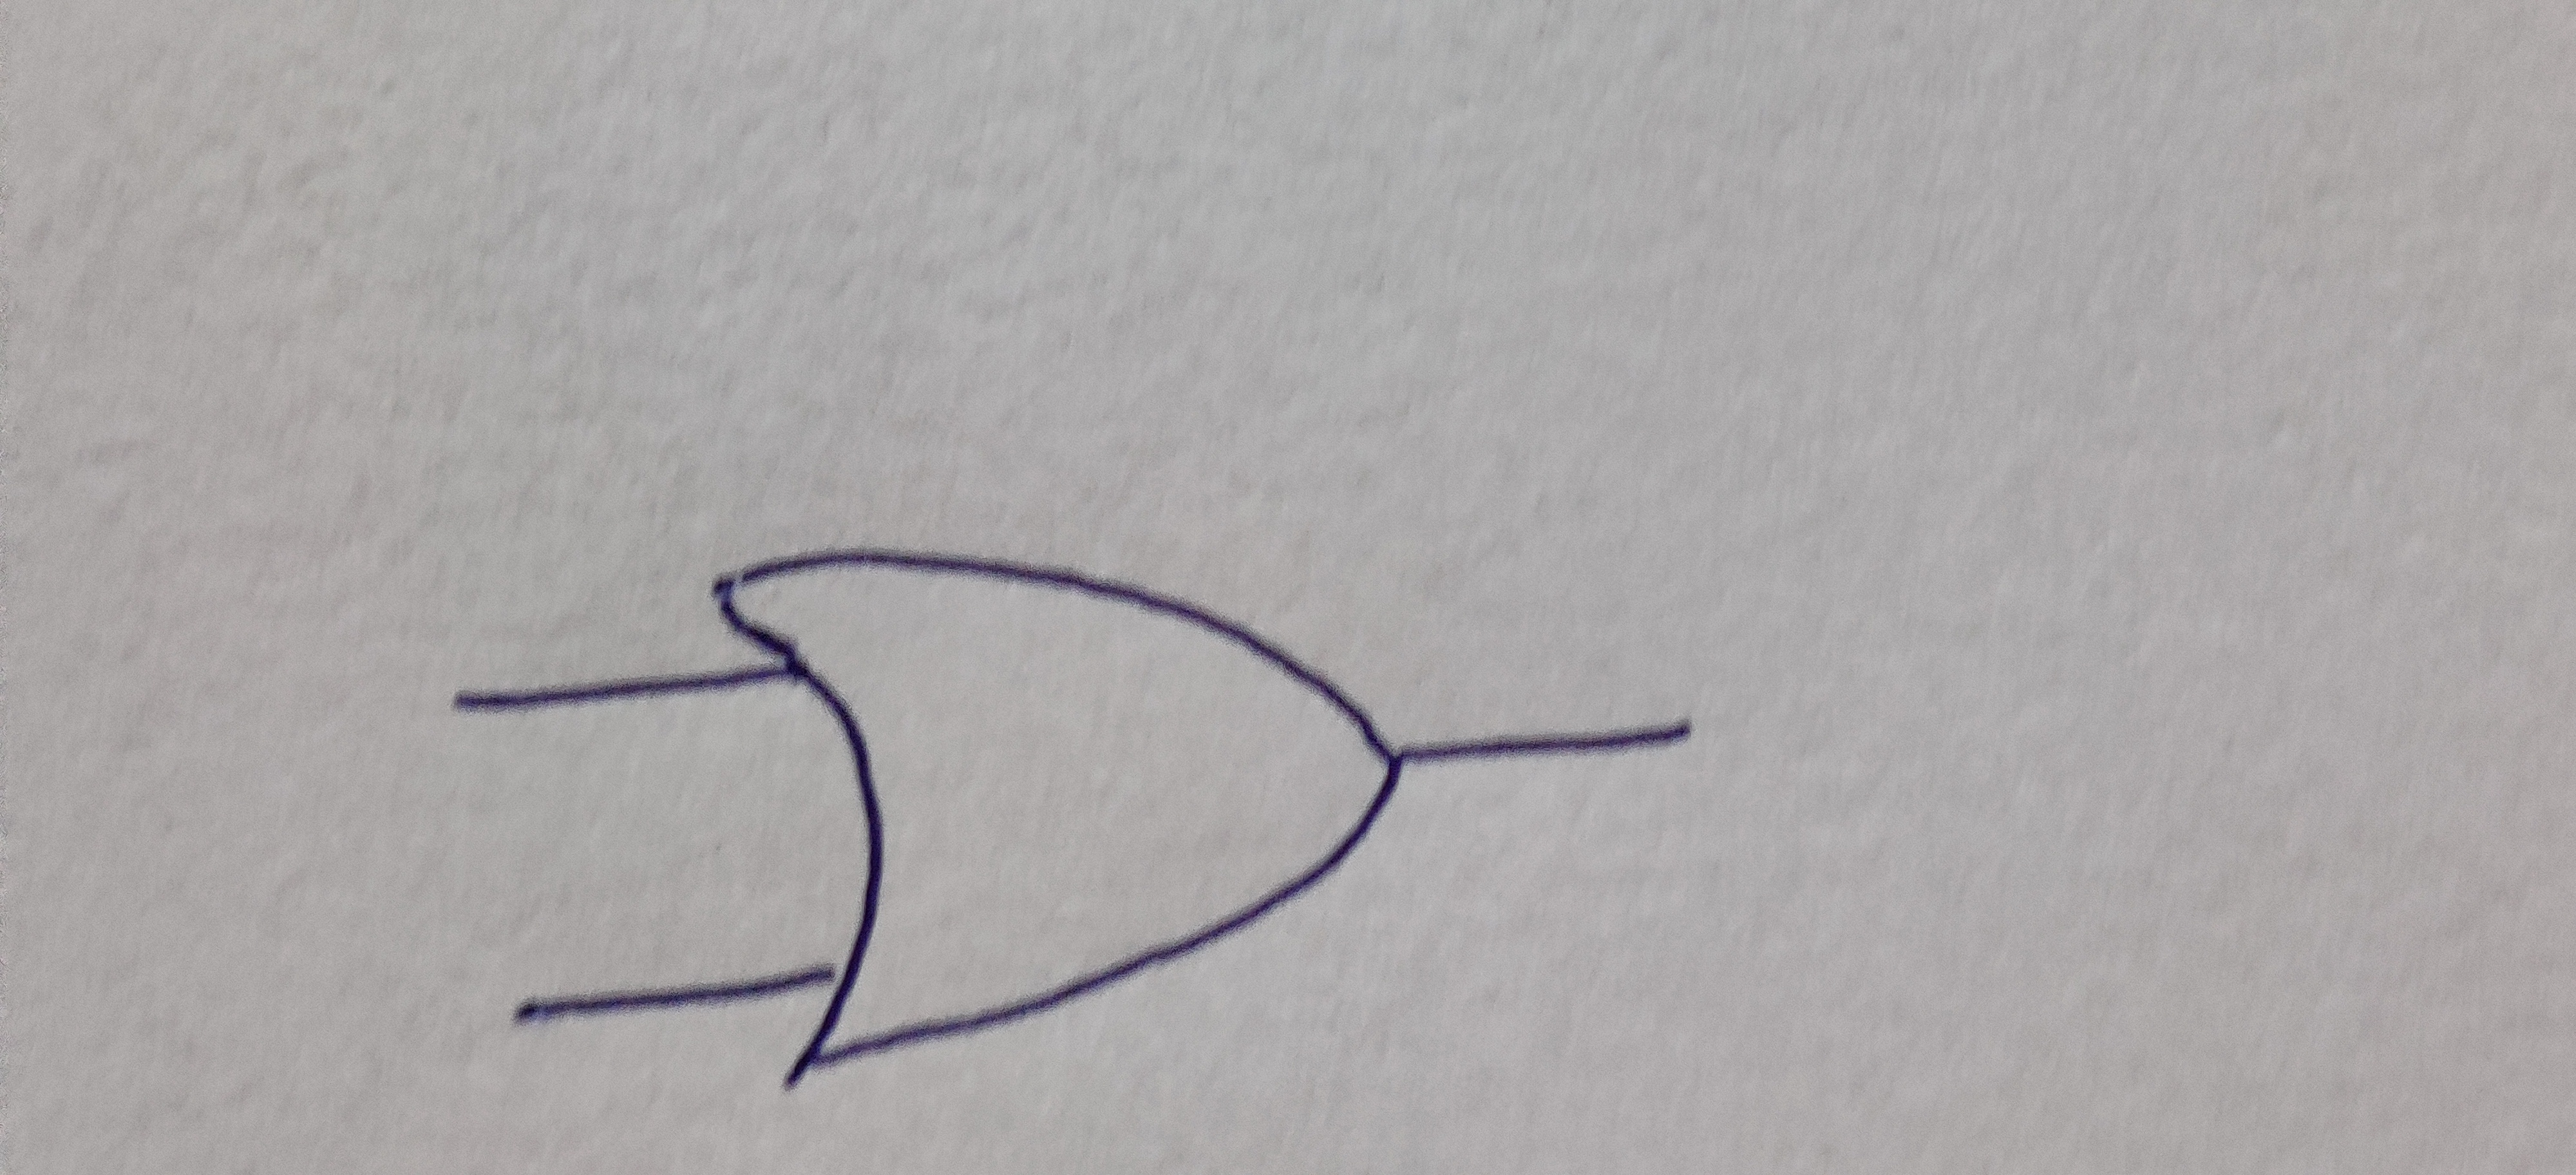or: (713, 551, 1398, 1071)
